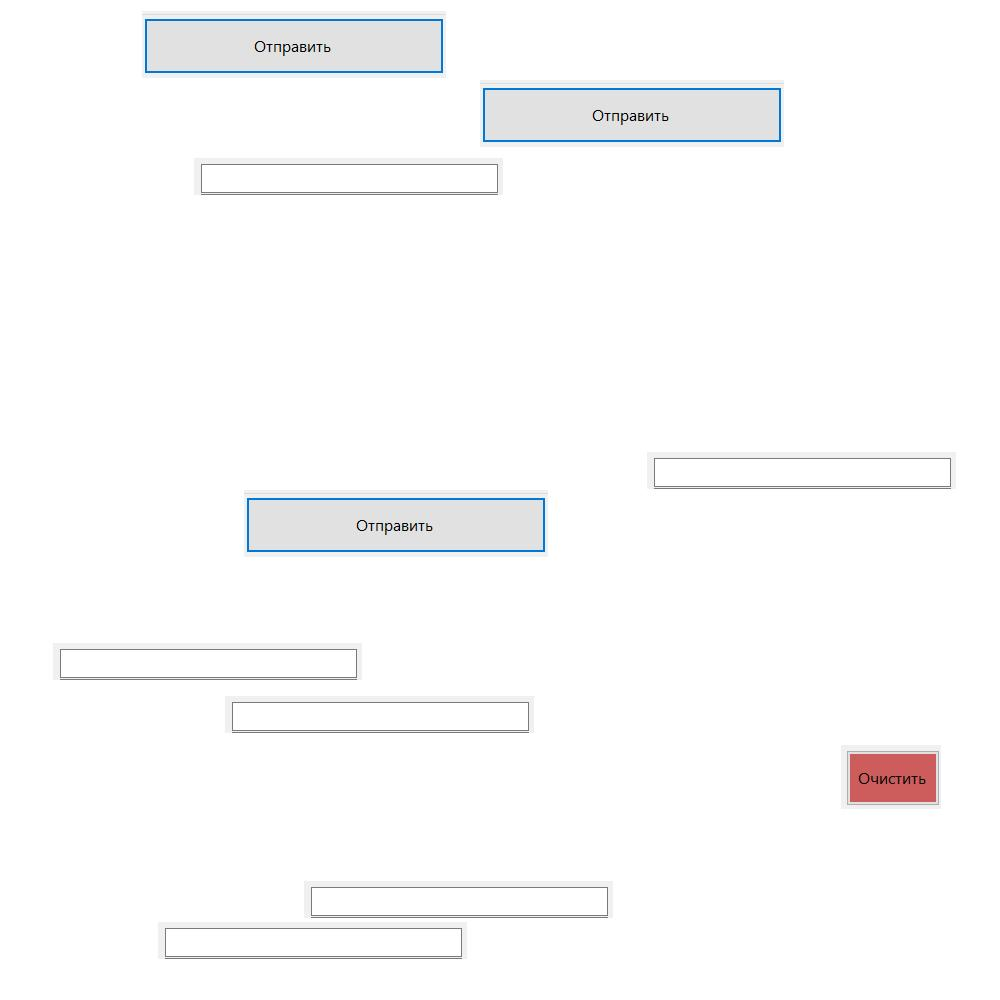Button: (142, 11, 446, 78), (244, 490, 548, 557), (480, 80, 784, 147), (841, 745, 941, 809)
EditText-: (304, 881, 613, 918), (158, 922, 467, 959), (647, 452, 956, 489), (225, 696, 534, 733), (194, 158, 503, 195), (53, 643, 362, 680)
